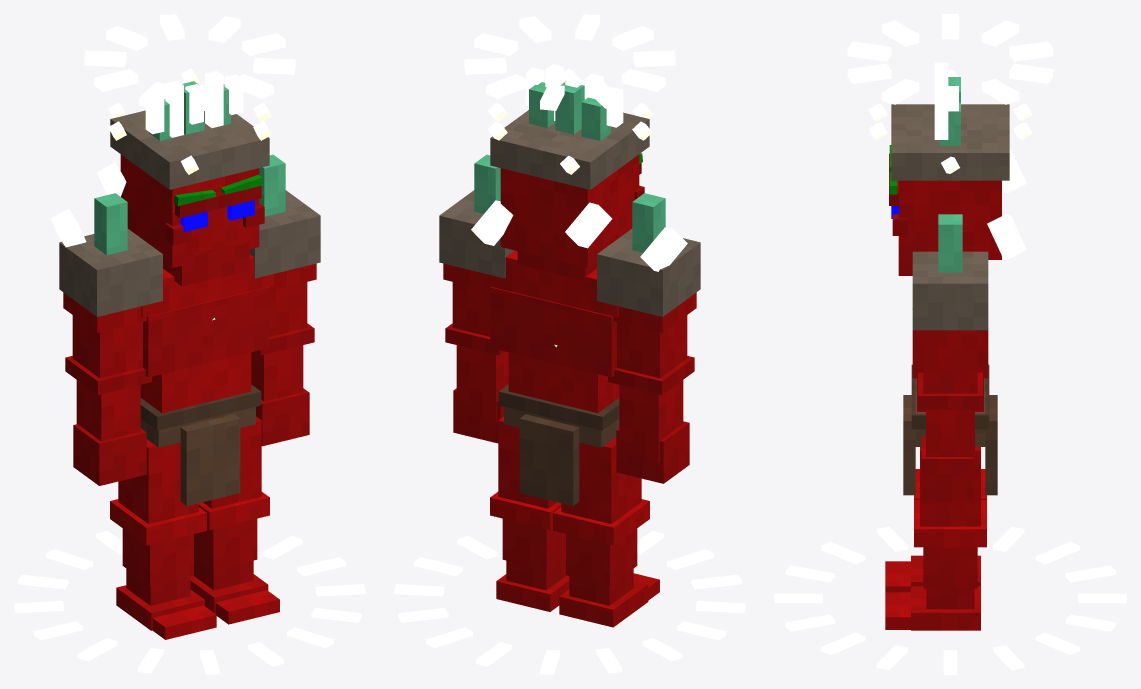
Rendered from spirit_s3_evo3.glb.
3 renders of one model, left to right at view 1: azimuth 30°, elevation 25°; view 2: azimuth 150°, elevation 25°; view 3: azimuth 270°, elevation 25°, orthographic.
Visible parts, largest first — view 1: Torso, Head, LegR, ArmR, LegL, ArmL, Root; view 2: Torso, Head, LegR, ArmR, LegL, ArmL, Root; view 3: Head, Torso, LegL, ArmL, Root, LegR.
Part boxes in pixels (box(x1,y1,x2,y2)): Torso: box(50, 154, 320, 505); Head: box(84, 14, 295, 286); LegR: box(110, 439, 216, 639); ArmR: box(63, 292, 151, 485); LegL: box(190, 416, 279, 624); ArmL: box(251, 263, 316, 446); Root: box(14, 530, 365, 674); Torso: box(439, 154, 700, 505); Head: box(464, 14, 675, 280); LegR: box(553, 437, 659, 627); ArmR: box(608, 292, 696, 483); LegL: box(490, 416, 569, 611); ArmL: box(443, 263, 508, 443); Root: box(394, 530, 745, 674); Head: box(847, 14, 1053, 275); Torso: box(903, 148, 1026, 495); LegL: box(885, 447, 986, 630); ArmL: box(916, 330, 984, 500); Root: box(774, 526, 1126, 674); LegR: box(885, 469, 986, 592).
Size of the model in its own units: 1.16 by 1.97 by 1.16.
22 materials, 22 textured.
